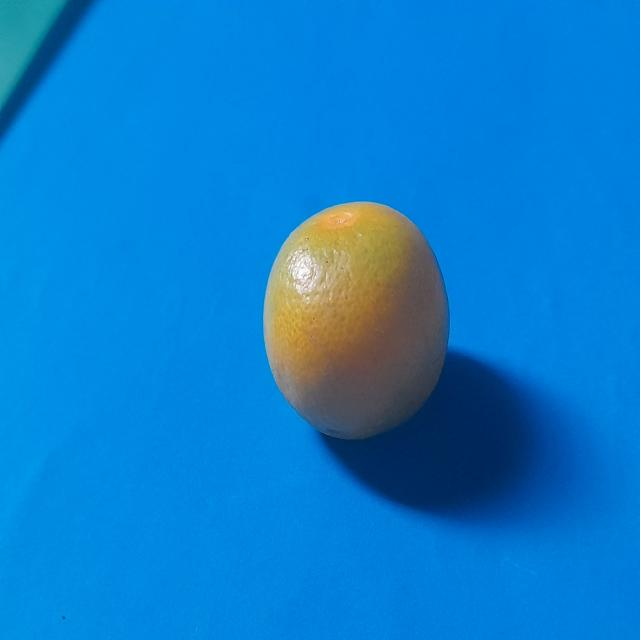greening: (260, 196, 450, 440)
